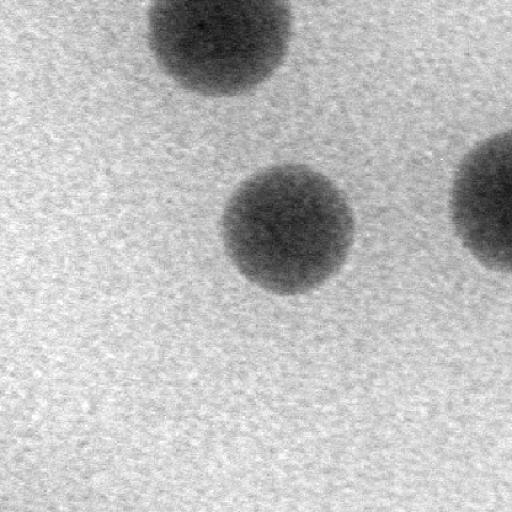Nanoparticles: (218, 159, 358, 298), (145, 0, 300, 102), (448, 127, 511, 285)
